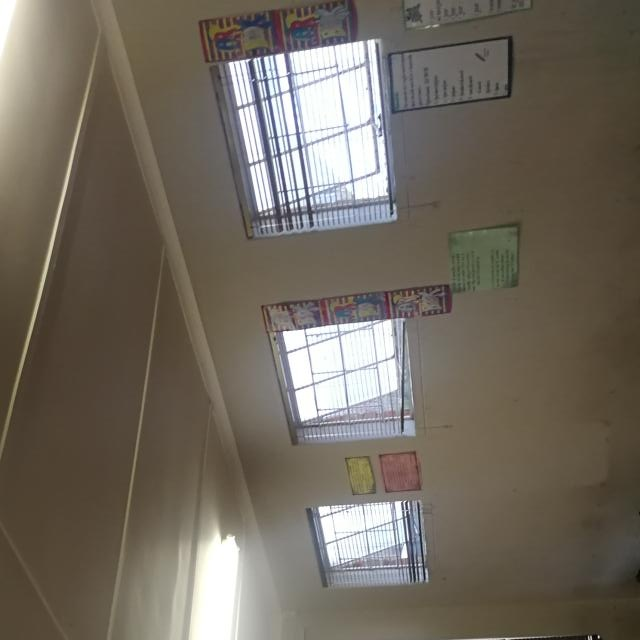fluorescent tube: (0, 0, 108, 158), (184, 514, 284, 640)
